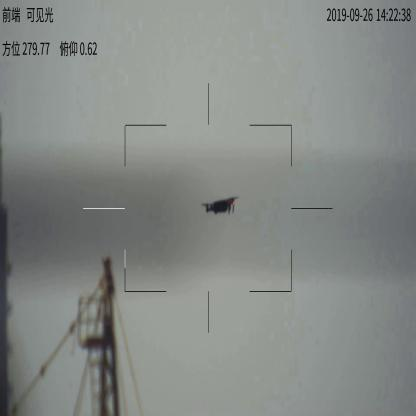uav: (200, 194, 240, 218)
